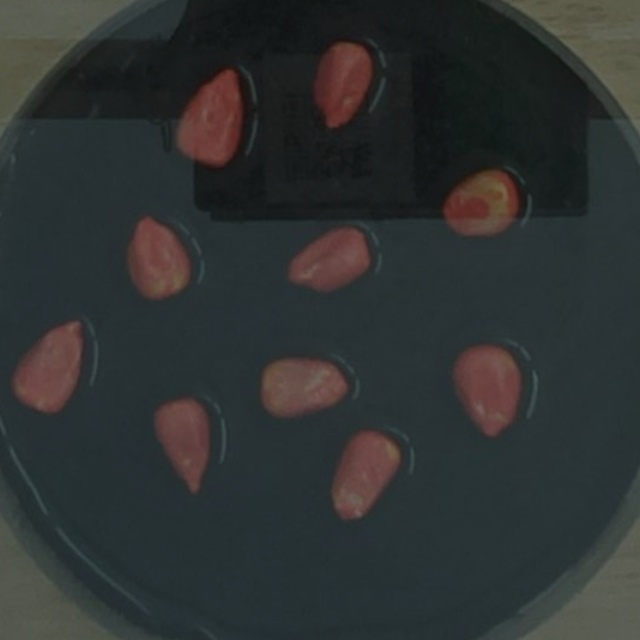Zea mays: (442, 335, 531, 447), (167, 59, 252, 176), (4, 309, 92, 421), (322, 419, 407, 528), (143, 389, 219, 502), (303, 32, 381, 140), (117, 207, 198, 308), (279, 219, 376, 303), (251, 351, 358, 426), (435, 164, 526, 244)
